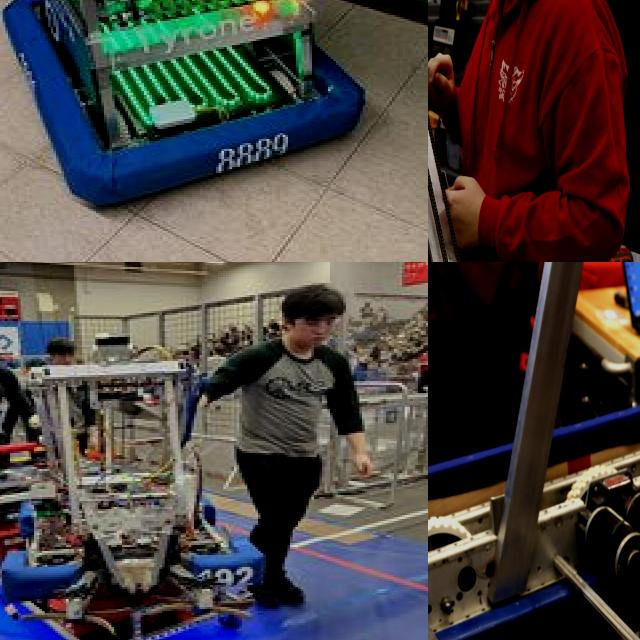FRC-Robots: (0, 0, 412, 212), (0, 324, 312, 584), (428, 262, 640, 640), (428, 0, 580, 262)
